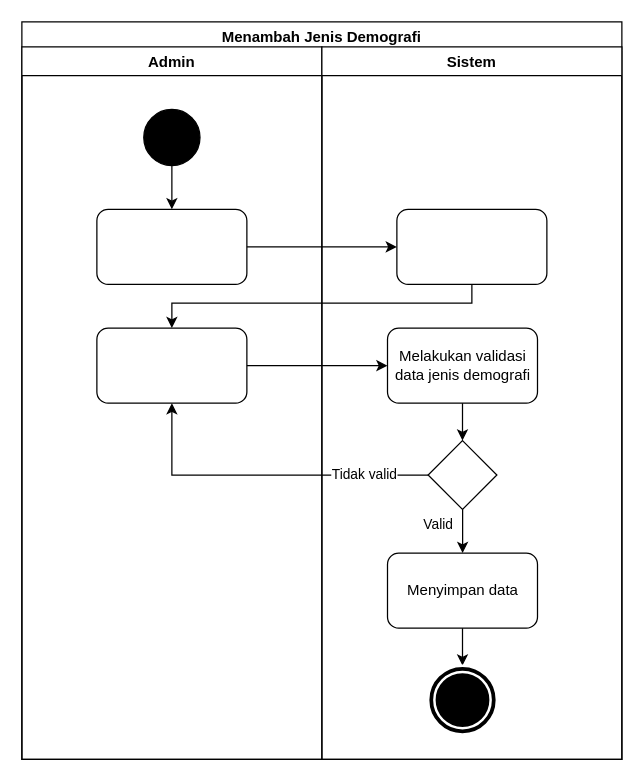
The diagram is 644 pixels wide and 781 high, and some of its shapes have lost their labels. Each missing label, with the centre of its shape:
"Memilih fitur tambah jenis demografi" goes at point (171, 246).
"Menampilkan dialog penambahan jenis demografi" goes at point (471, 246).
"Mengisi formulir penambahan jenis demografi" goes at point (171, 365).
